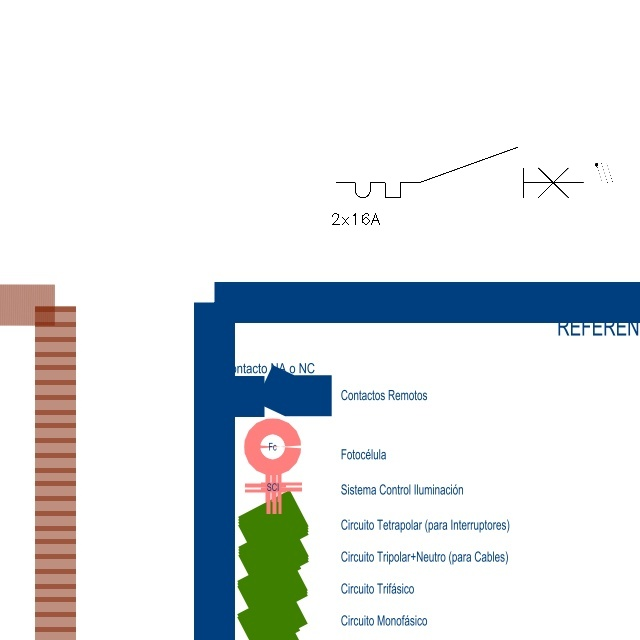interruptor_termomagnetico: (330, 141, 589, 204)
